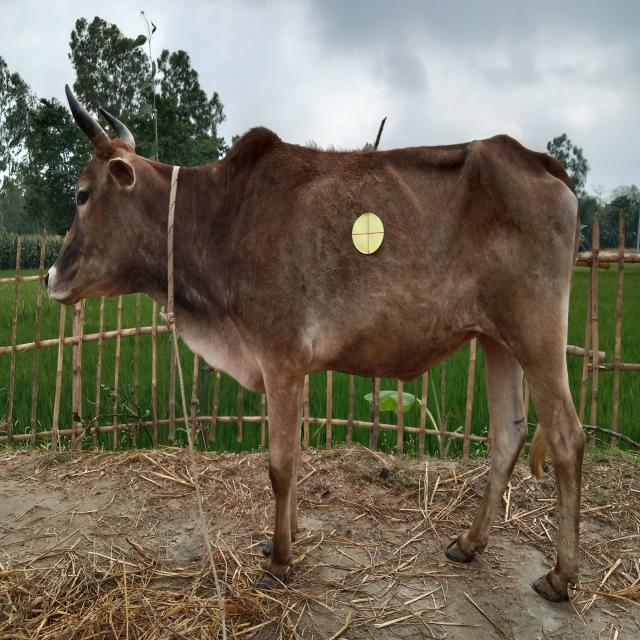badan_sapi: (235, 152, 576, 382)
sapi: (36, 73, 598, 614)
